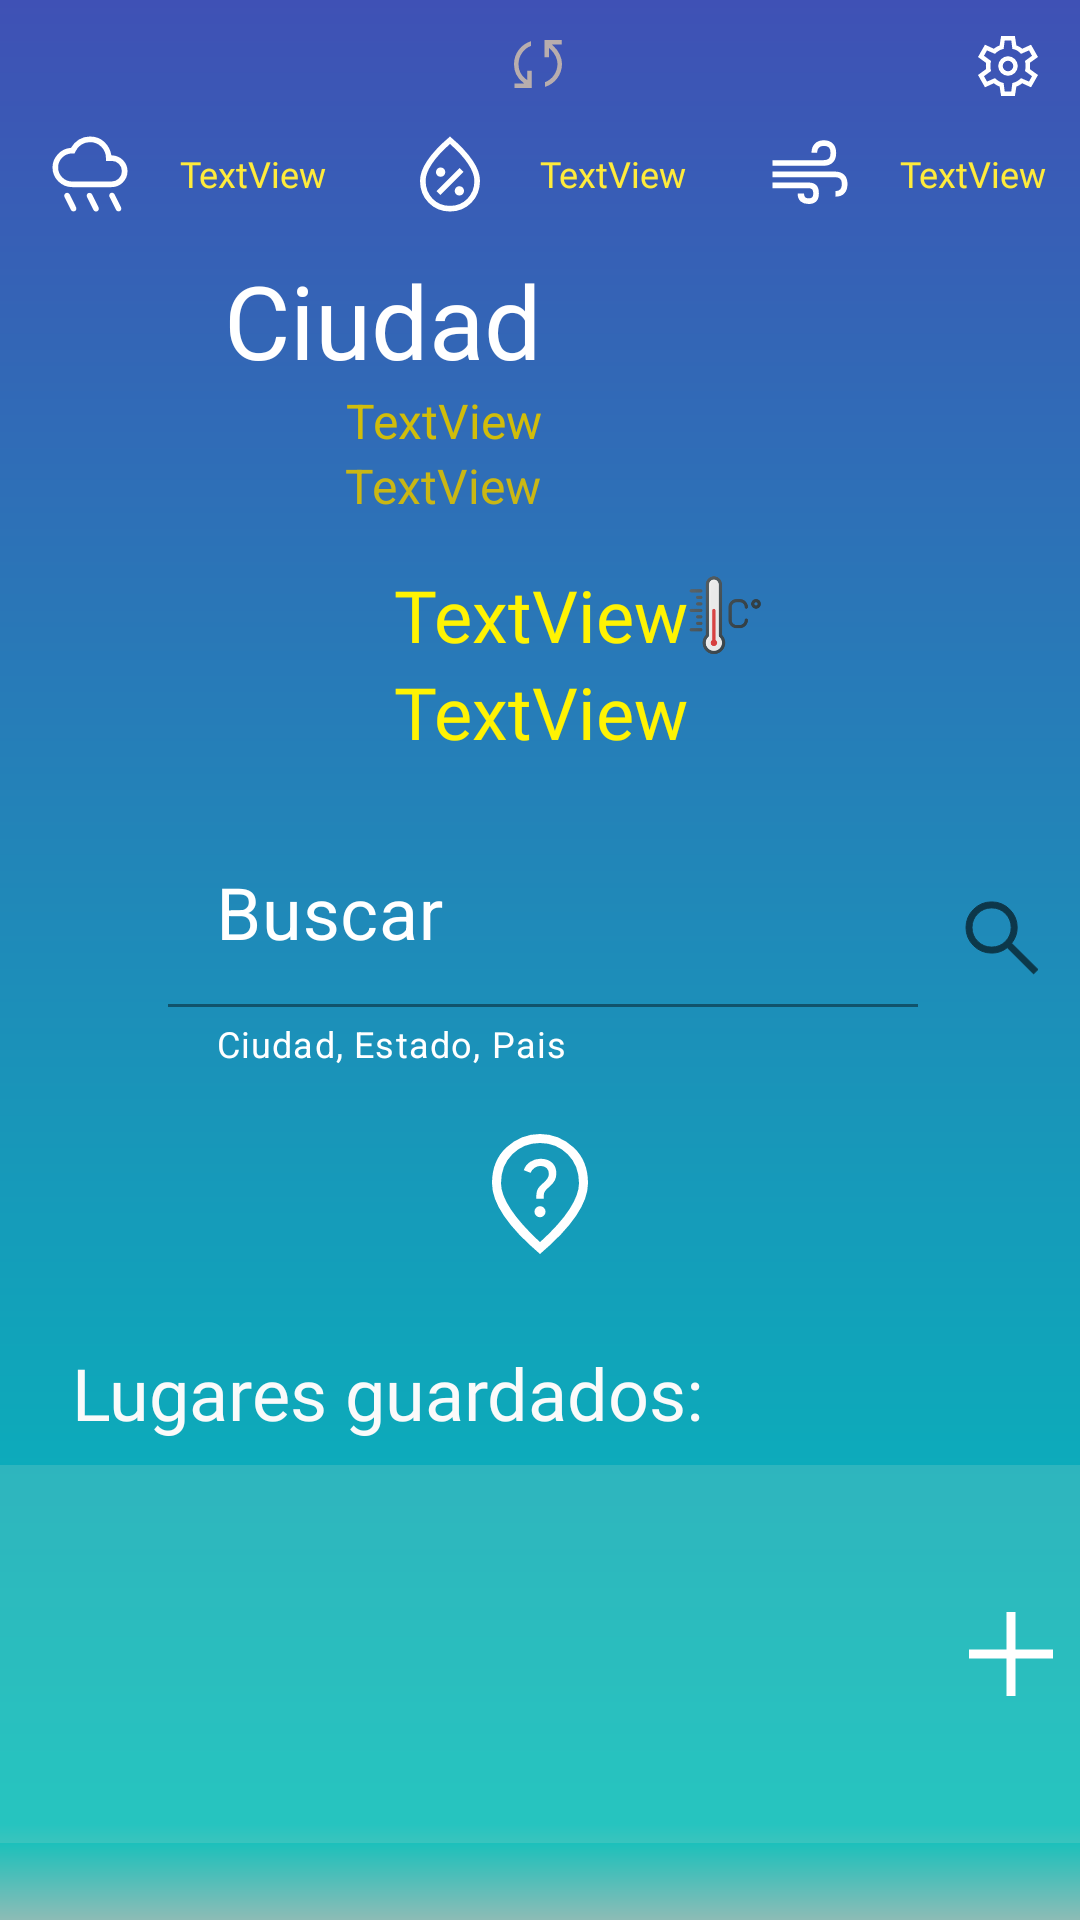

Icon bounding boxes for this 1080w x 1920h phone screenshot, format rect(x1, y1, x2, y2):
humidity: rect(420, 136, 480, 212)
rain: rect(52, 136, 128, 212)
search: rect(965, 901, 1038, 974)
settings: rect(978, 36, 1038, 96)
Ubicación actual: rect(492, 1134, 588, 1254)
update: rect(514, 40, 562, 88)
wind: rect(772, 140, 848, 204)
